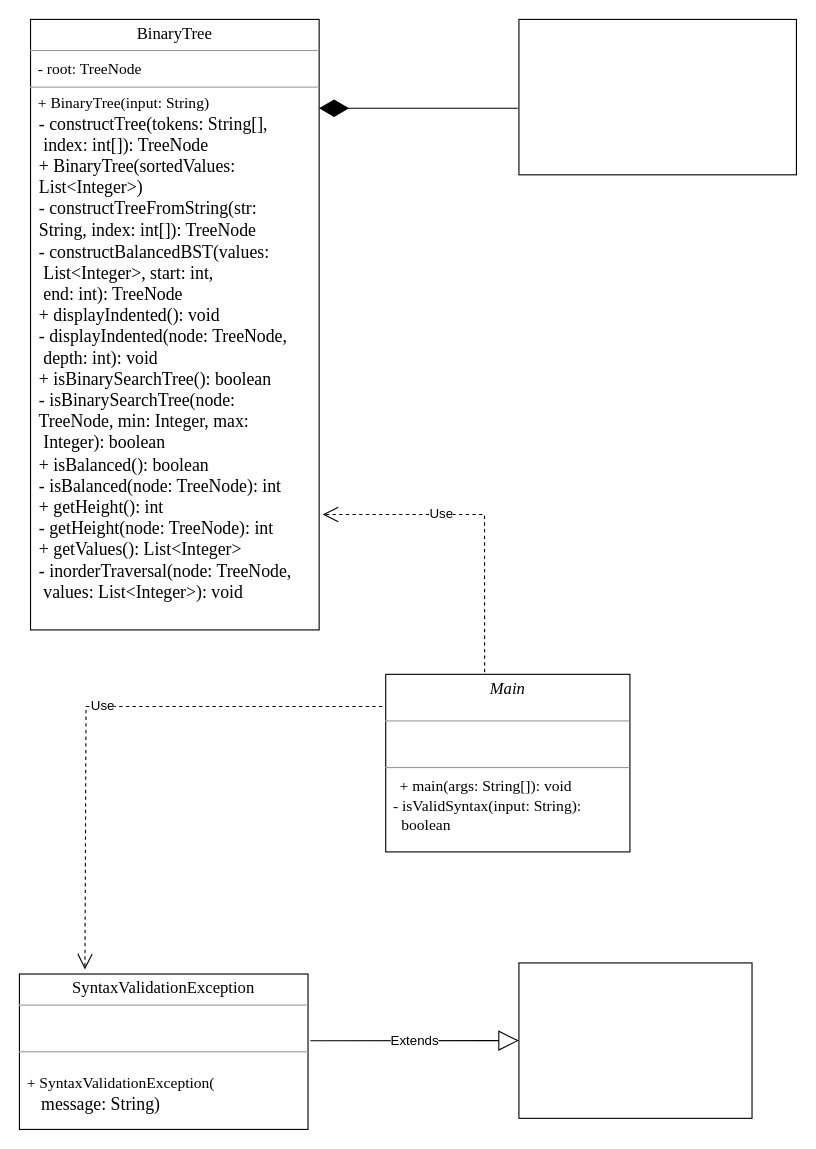
Image size: 816x1149. Some labels were removed from this diagram. The centre of each missing label's shape, as x and y in pixels:
"Exception + Exception(message: String) + getMessage(): String" belongs at (635,1040).
"TreeNode + data: int + left: TreeNode + right: TreeNode + TreeNode(data: int)" belongs at (657,96).
